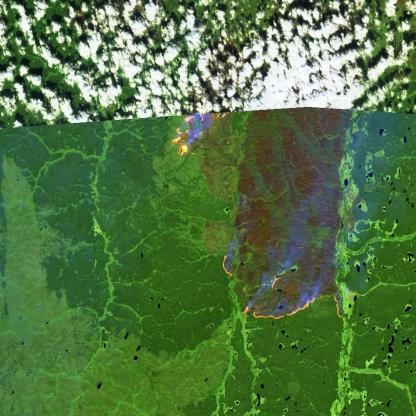fire: (168, 88, 364, 328)
